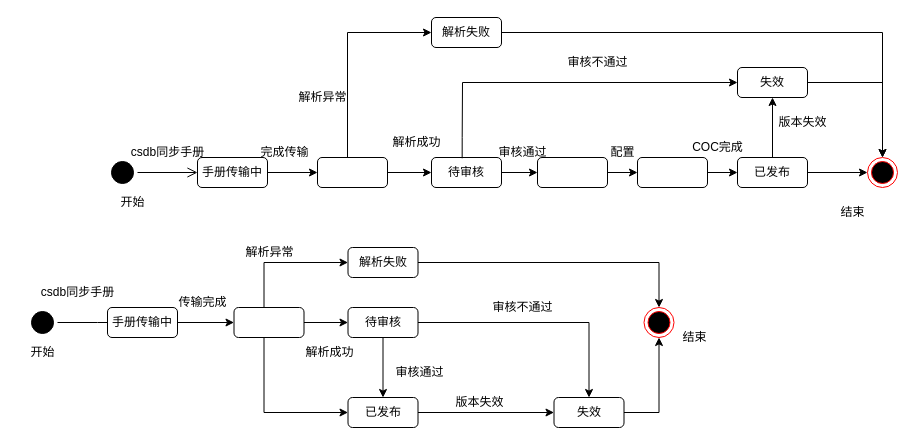
Image size: 915x445. Some labels were removed from this diagram. The centre of each missing label's shape, as x and y in pixels:
"COC进行中" belongs at [672,172].
"待COC配置" belongs at [572,172].
"解析中" belongs at [268,322].
"解释中" belongs at [352,172].
